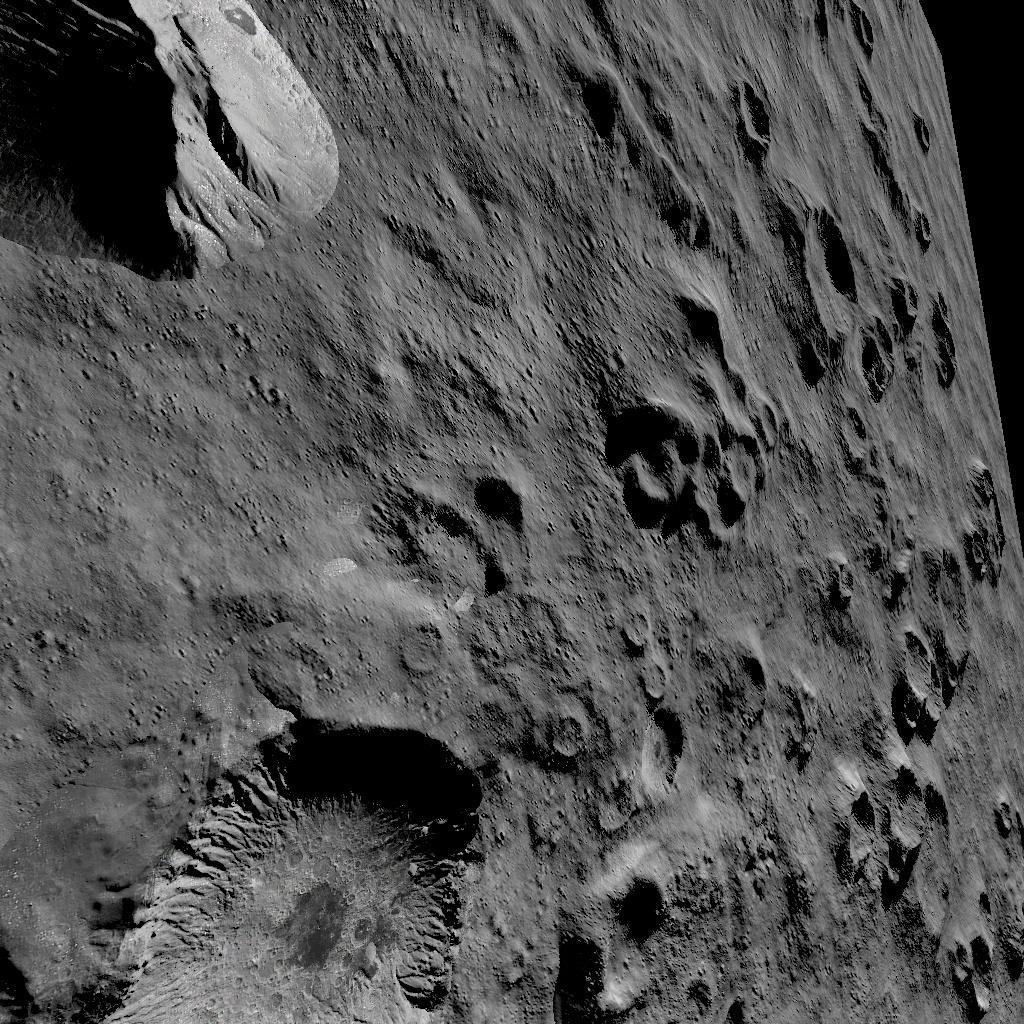Boulders: (0, 0, 347, 281)
Crater: (1, 706, 519, 1024), (605, 398, 816, 562), (377, 474, 562, 609), (563, 860, 700, 1024), (610, 600, 704, 834), (853, 768, 980, 918), (795, 192, 876, 386), (883, 276, 997, 401), (879, 628, 983, 752), (968, 452, 1014, 585), (730, 74, 791, 154), (958, 942, 1019, 1020), (730, 648, 784, 736), (399, 618, 461, 681), (843, 408, 892, 466), (547, 708, 596, 762), (828, 560, 870, 622), (914, 198, 958, 252), (853, 4, 900, 52), (912, 106, 956, 154)
Plan surface: (1, 304, 367, 690), (381, 4, 596, 460)
